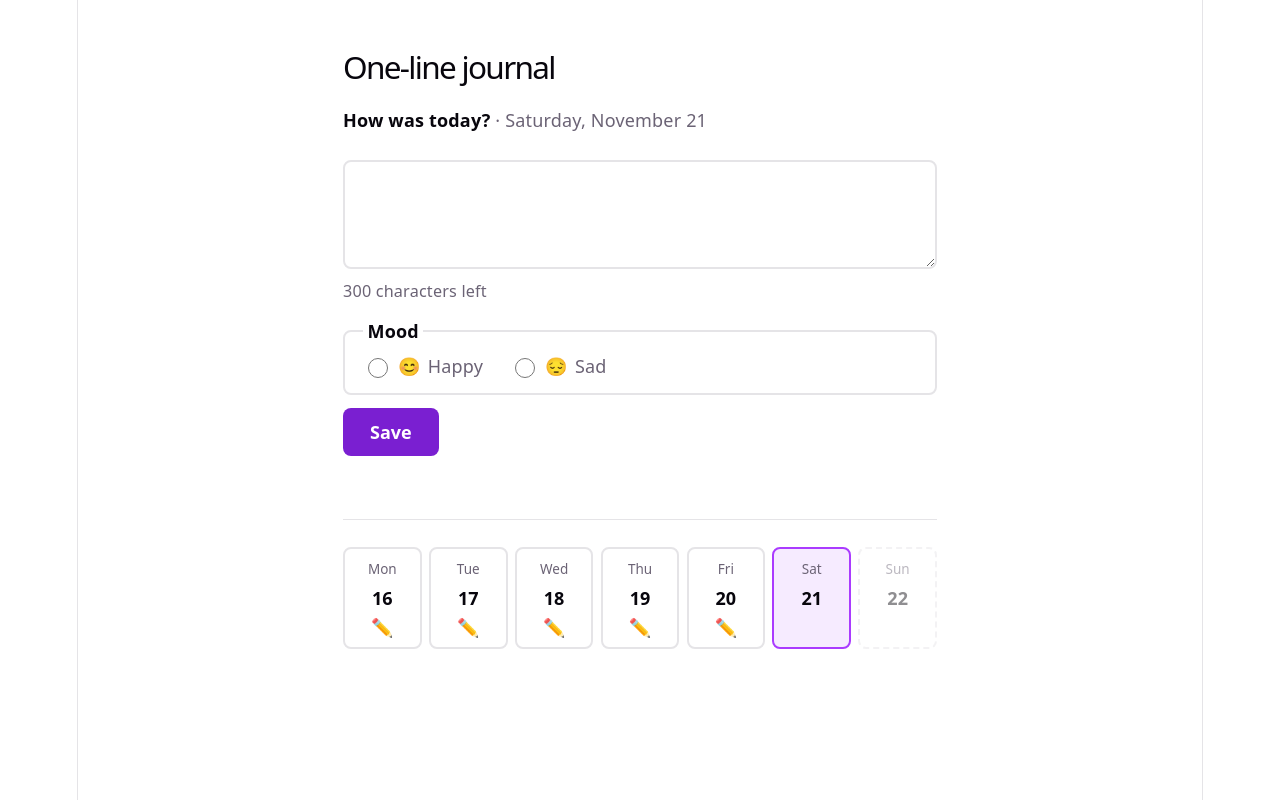
week strip: label and switch note › note when switching days drops unsaved changes › removes the note on the next switch that loses nothing
Type "unsaved today" into the text box labelled "How was today? Saturday, November 21" at (640, 215), box top-left (343, 160), bottom-right (937, 270)
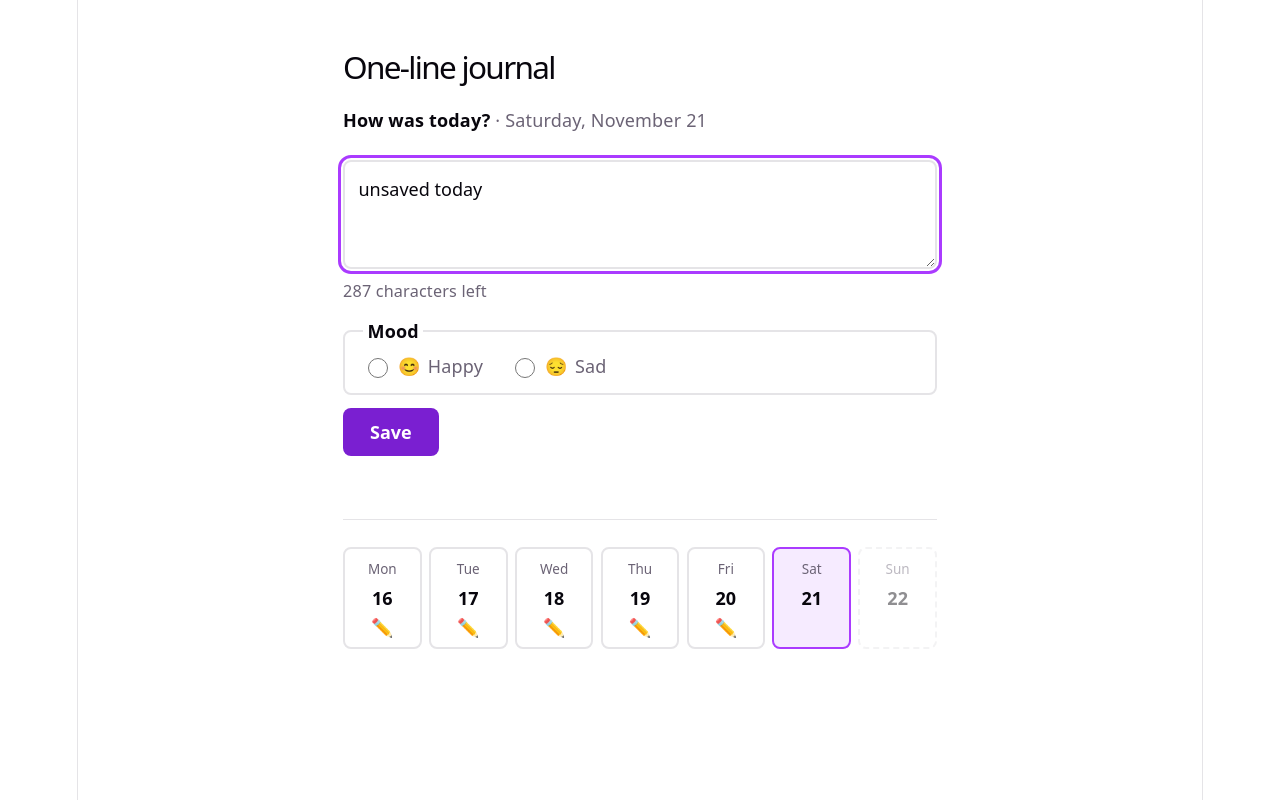
Click the button with aria-label "Tuesday" at (468, 598), box top-left (429, 547), bottom-right (508, 649)
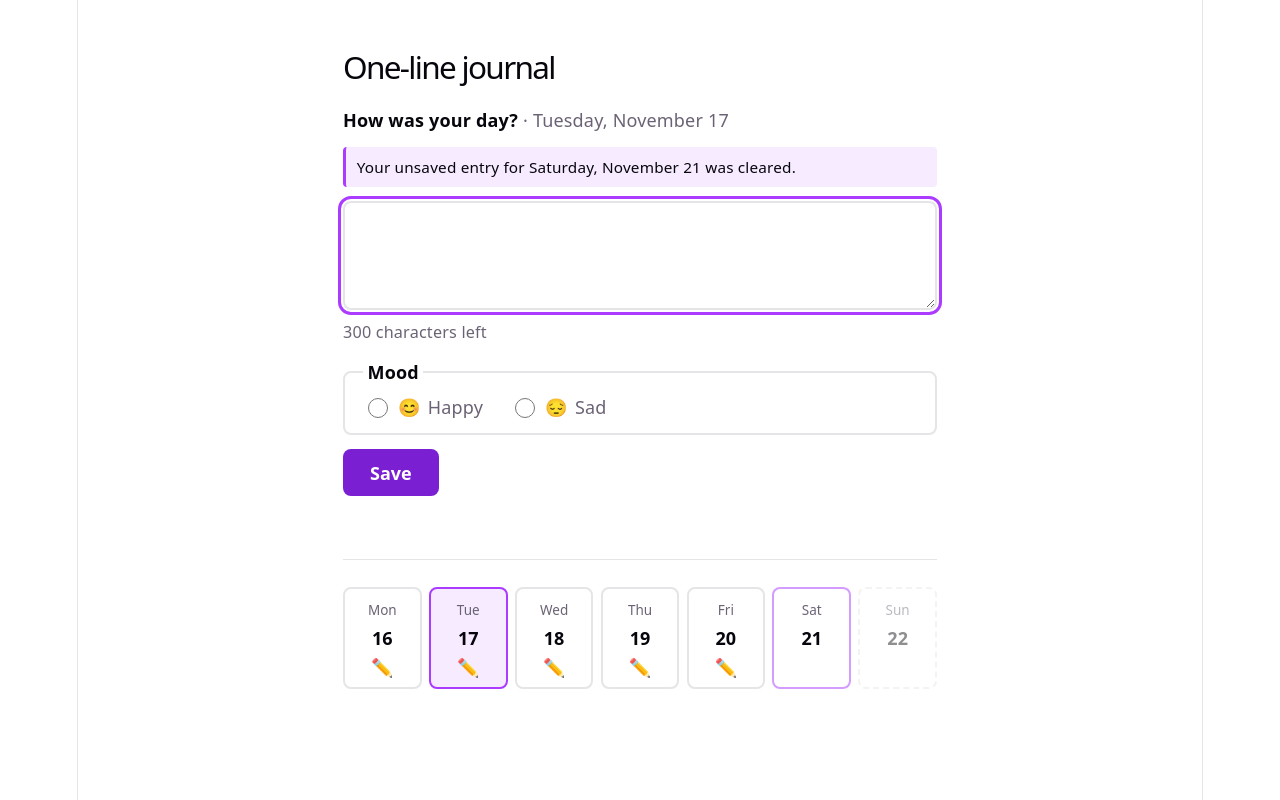
Click the button with aria-label "Wednesday" at (554, 638), box top-left (515, 587), bottom-right (594, 689)
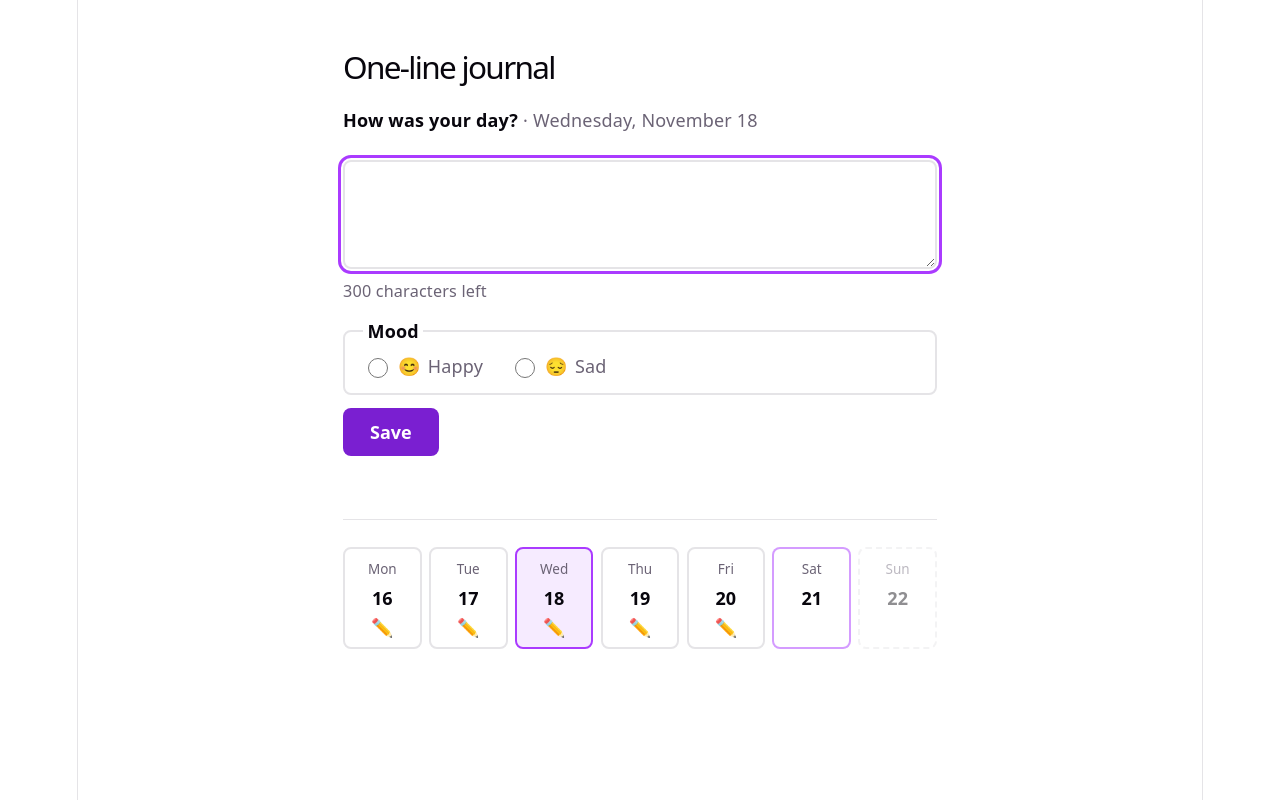
Expected: the text box named "how was today" is empty, top-left (343, 160), bottom-right (937, 270)
Expected: the text "was cleared" is gone
